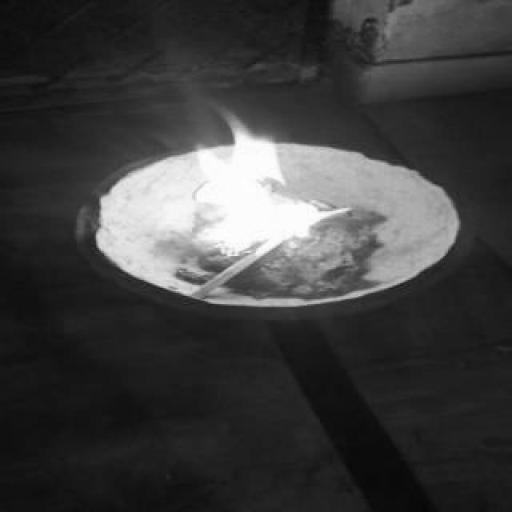smoke: (142, 124, 325, 258)
